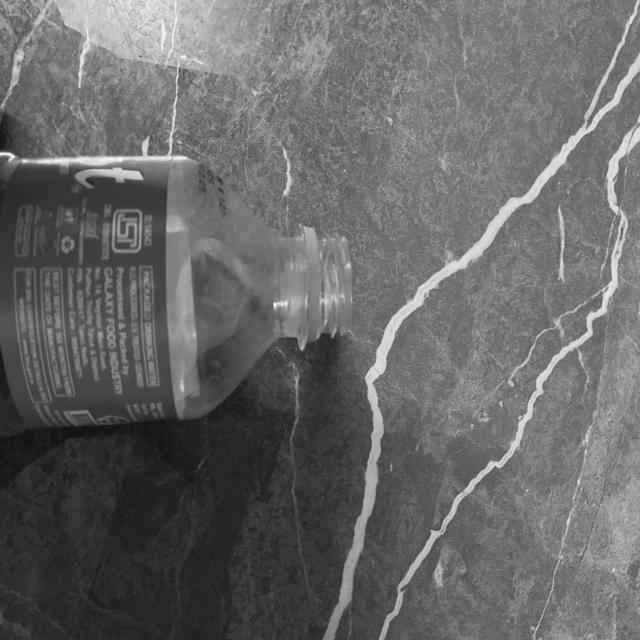open-cap: (302, 226, 353, 343)
